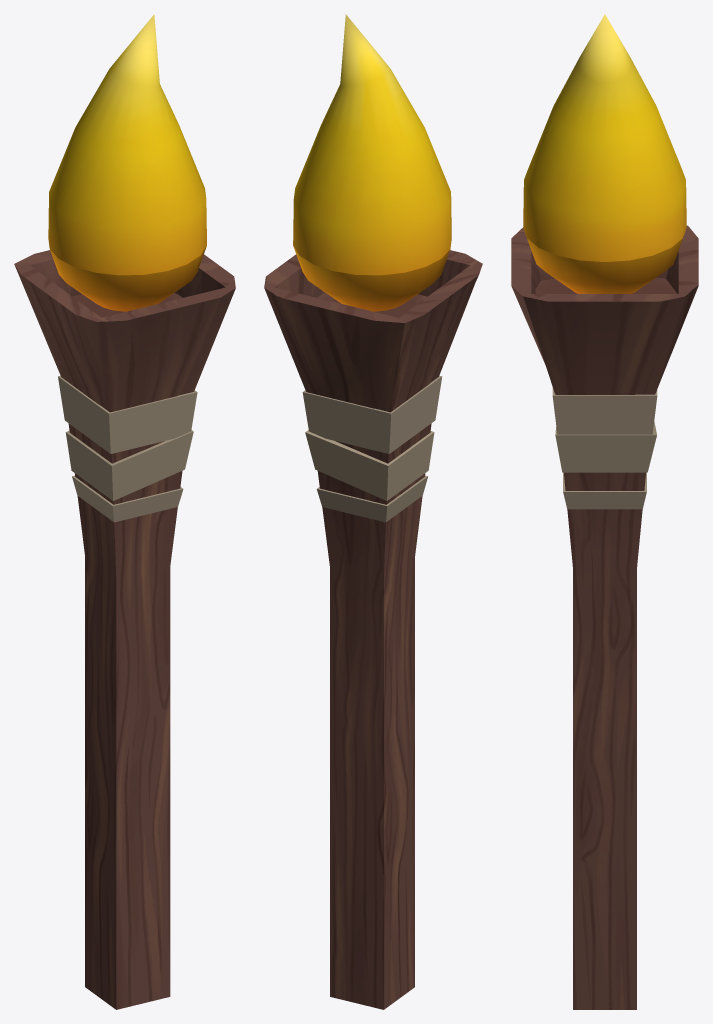
Rendered from Torch.fbx.
3 views of the same model, side by side, from view 1: azimuth 30°, elevation 25°; view 2: azimuth 150°, elevation 25°; view 3: azimuth 270°, elevation 25° (orthographic). The views are drawn at different scales.
Visible parts, largest first — view 1: Torch; view 2: Torch; view 3: Torch.
Part boxes in pixels (left/top/right/bottom): Torch: left=14, top=14, right=235, bottom=1009; Torch: left=264, top=14, right=482, bottom=1009; Torch: left=511, top=14, right=698, bottom=1009.
Bounding box in the file's own units: 1.94 × 11.4 × 1.94.
2 materials, 1 textured.
